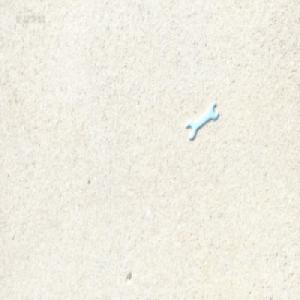Wrench: (186, 104, 217, 140)
